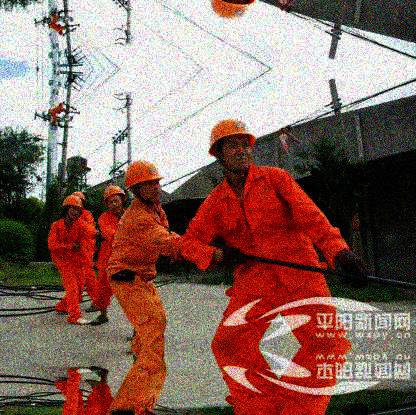helmet: (206, 117, 256, 169), (124, 160, 163, 201), (100, 185, 125, 213), (64, 195, 82, 219)
